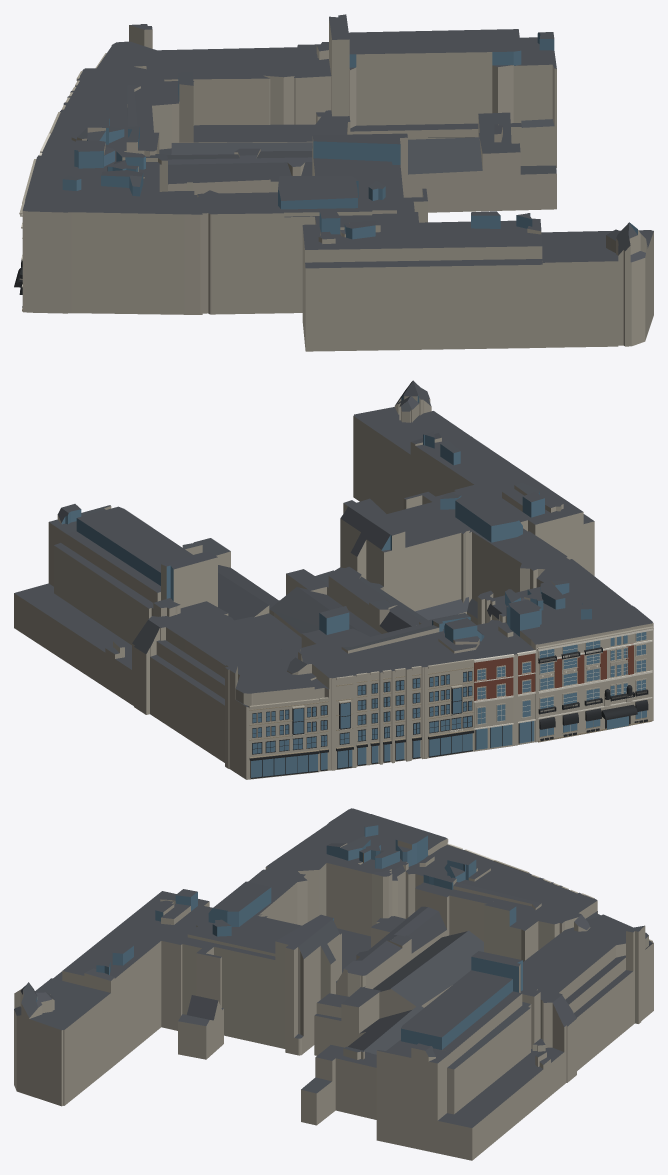
Rendered from krasnapolsky.glb.
The picture shows the model from 3 angles, top to bottom: view 1: azimuth 30°, elevation 25°; view 2: azimuth 150°, elevation 25°; view 3: azimuth 270°, elevation 25°; orthographic projection. The views are drawn at different scales.
Parts seen in each view (by area): view 1: krasnapolsky; view 2: krasnapolsky; view 3: krasnapolsky.
Part boxes in pixels (x1=…): krasnapolsky: x1=14, y1=14, x2=653, y2=351; krasnapolsky: x1=14, y1=380, x2=653, y2=779; krasnapolsky: x1=14, y1=808, x2=653, y2=1160.
Size of the model in its own units: 134 by 27.55 by 138.
